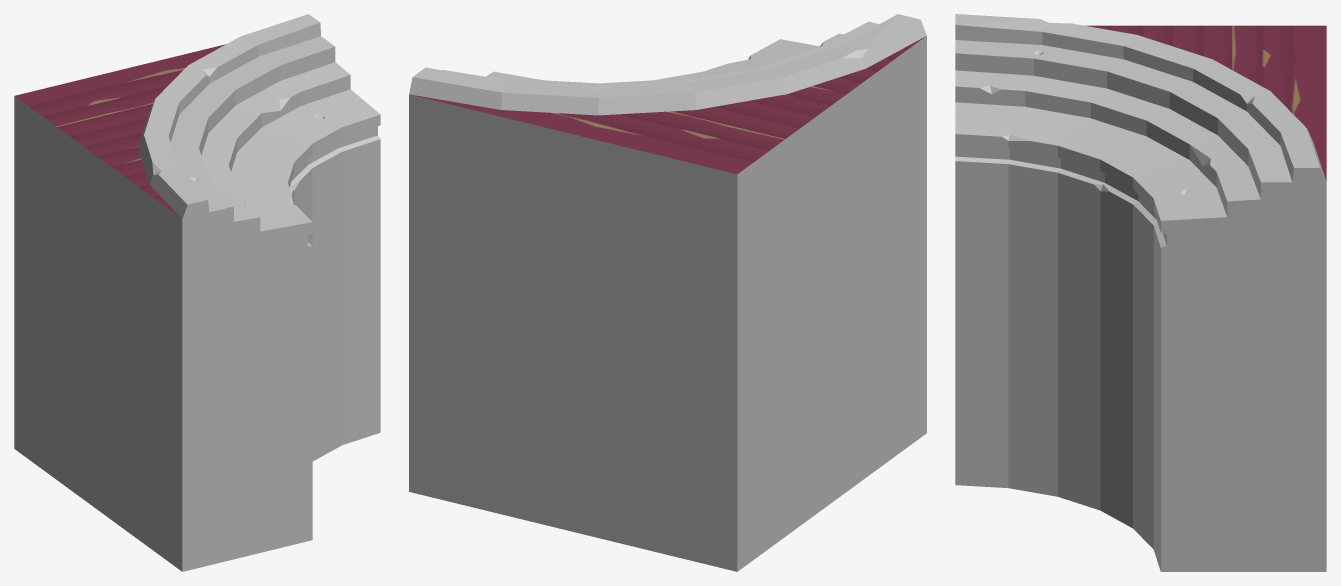
File: SM_Bld_Shrine_Corner_In_01.fbx
3 views of the same model, side by side, from view 1: azimuth 30°, elevation 25°; view 2: azimuth 150°, elevation 25°; view 3: azimuth 270°, elevation 25° (orthographic). The views are drawn at different scales.
Parts seen in each view (by area): view 1: SM_Bld_Shrine_Corner_In_01; view 2: SM_Bld_Shrine_Corner_In_01; view 3: SM_Bld_Shrine_Corner_In_01.
Part boxes in pixels (x1,y1,x2,y2): SM_Bld_Shrine_Corner_In_01: (14, 14, 380, 571); SM_Bld_Shrine_Corner_In_01: (409, 14, 926, 571); SM_Bld_Shrine_Corner_In_01: (955, 14, 1326, 571).
Size of the model in its own units: 500 by 600 by 500.
